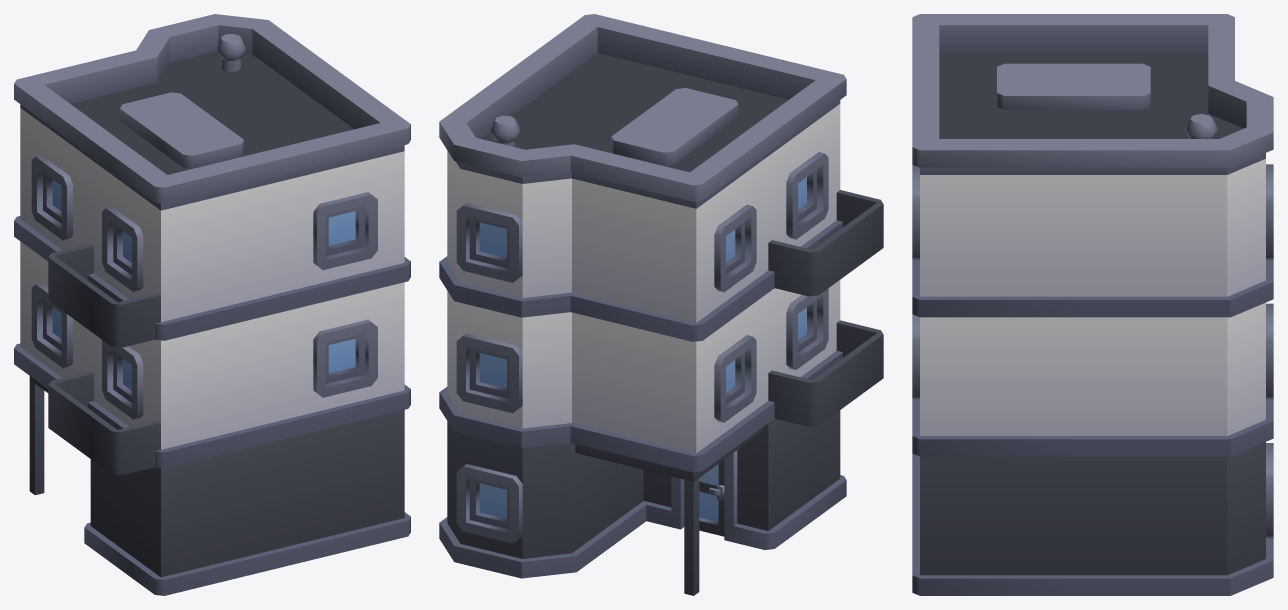
Rendered from city_1.fbx.
3 renders of one model, left to right at view 1: azimuth 30°, elevation 25°; view 2: azimuth 150°, elevation 25°; view 3: azimuth 270°, elevation 25°, orthographic. The views are drawn at different scales.
Parts seen in each view (by area): view 1: city_1; view 2: city_1; view 3: city_1.
Part boxes in pixels (<box>): city_1: <box>14,14,410,595</box>; city_1: <box>439,14,883,595</box>; city_1: <box>912,14,1273,595</box>.
Bounding box in the file's own units: 0.97 × 1.29 × 0.94.
Materials: 1 (1 with a texture image).
